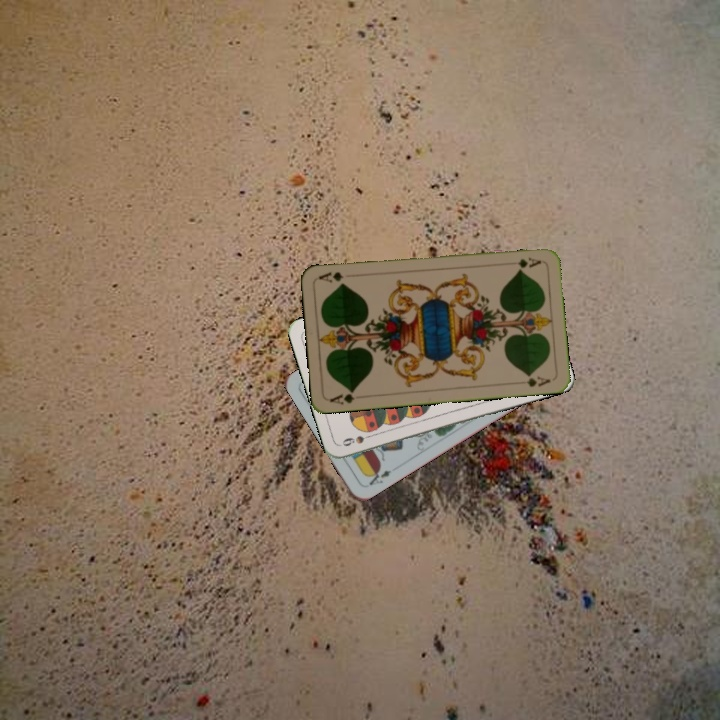EA: (363, 464, 394, 488)
GA: (326, 386, 358, 407), (514, 254, 543, 270)
S9: (338, 429, 378, 449)
